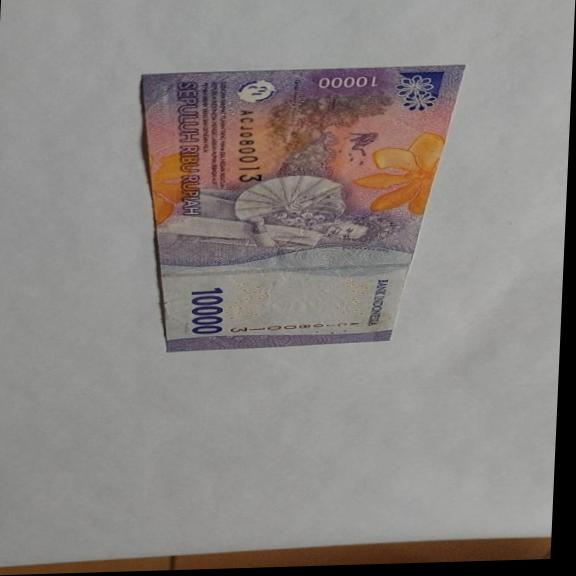Kertas: (128, 63, 467, 354)
